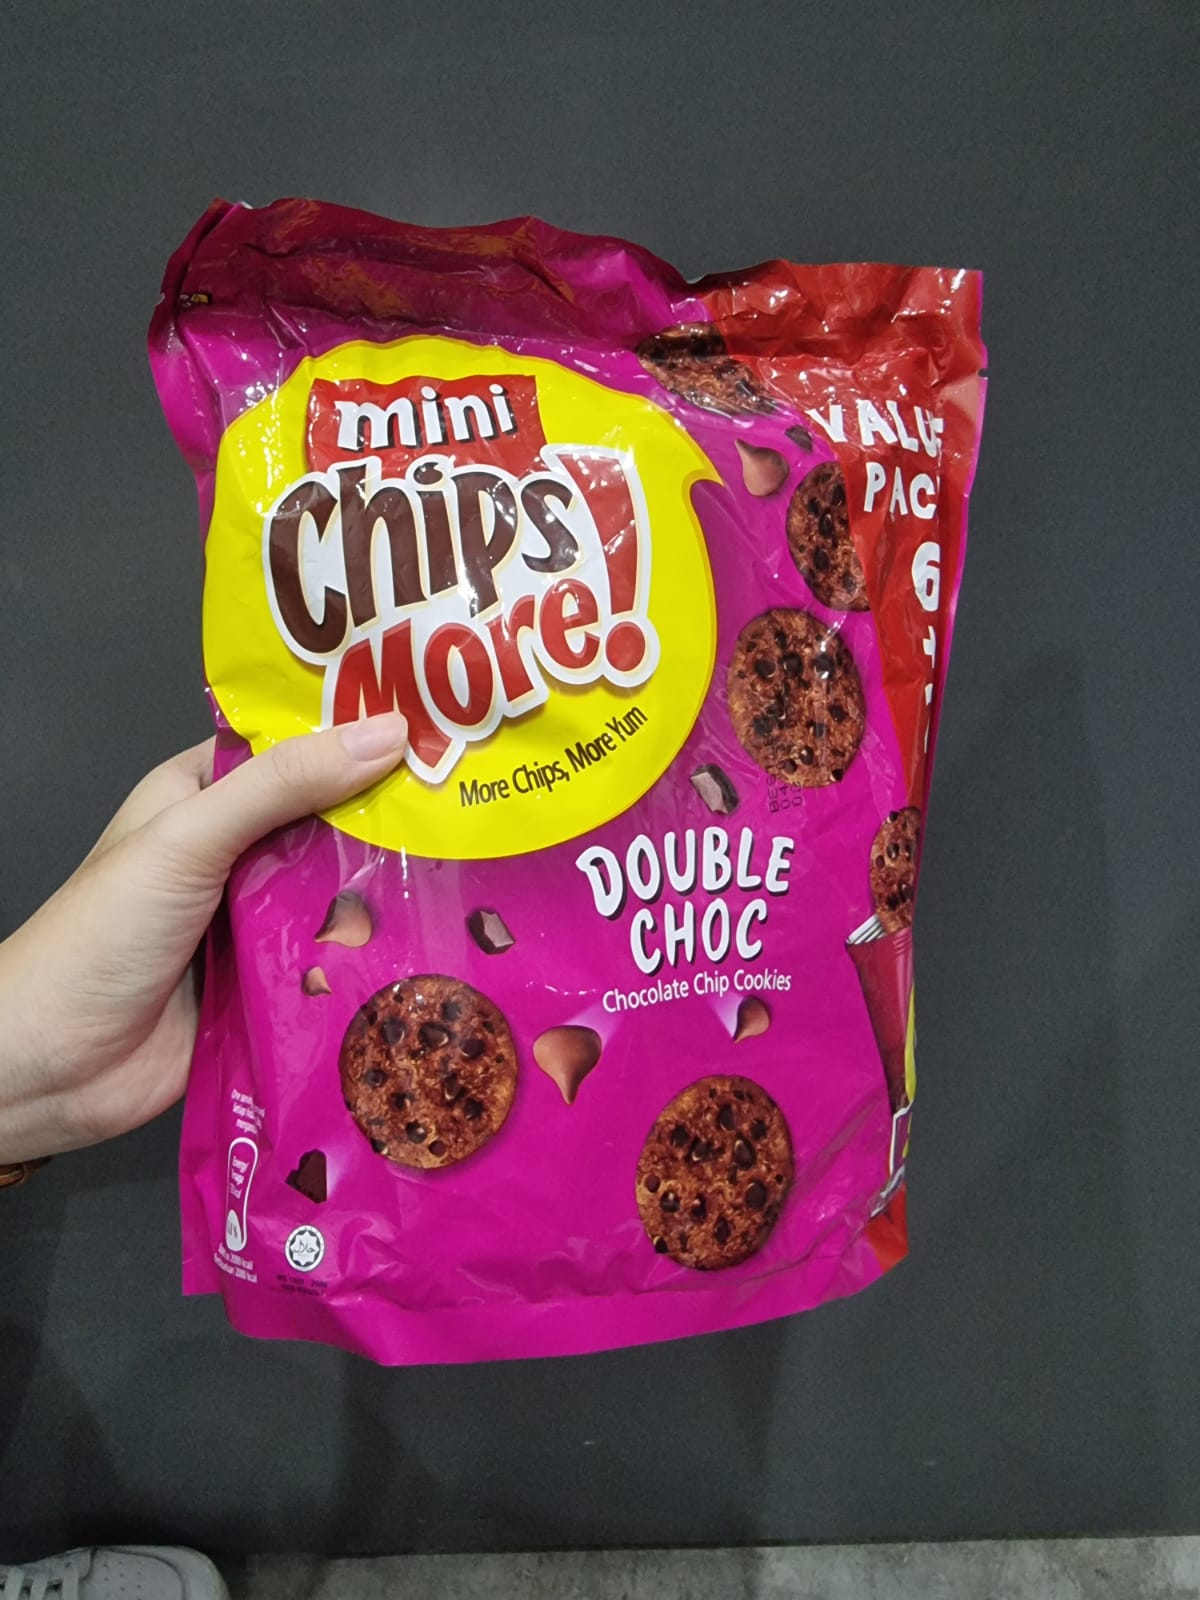Biscuits: (217, 307, 913, 1295)
